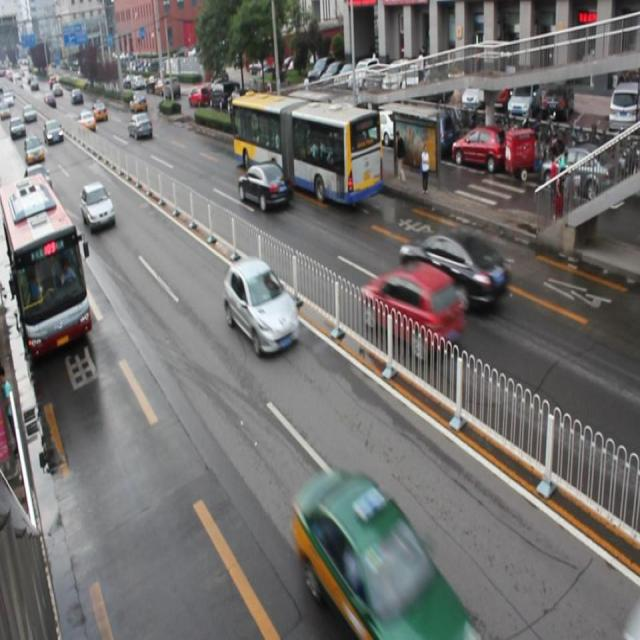car: (295, 473, 462, 640), (358, 264, 466, 358), (400, 229, 507, 308), (224, 257, 298, 355), (237, 162, 290, 211), (82, 182, 115, 230), (25, 166, 52, 194), (128, 112, 152, 140)
van: (230, 88, 382, 208), (1, 176, 90, 355)
